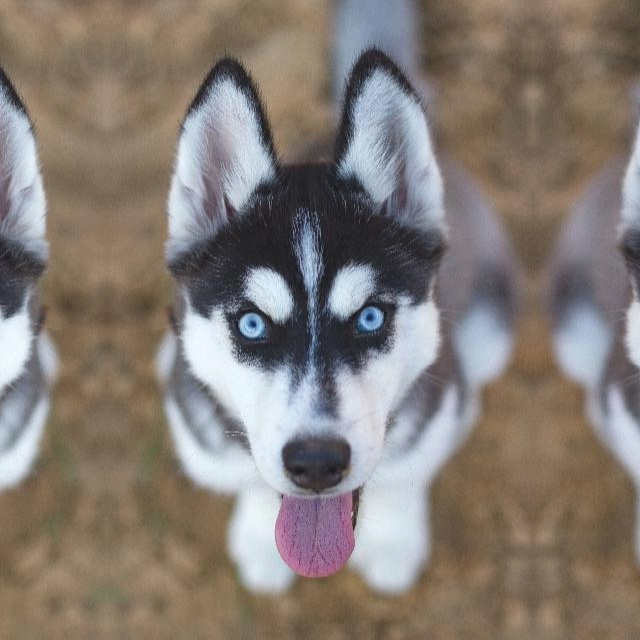dog: (165, 45, 495, 603), (573, 45, 640, 603), (0, 45, 49, 603)
